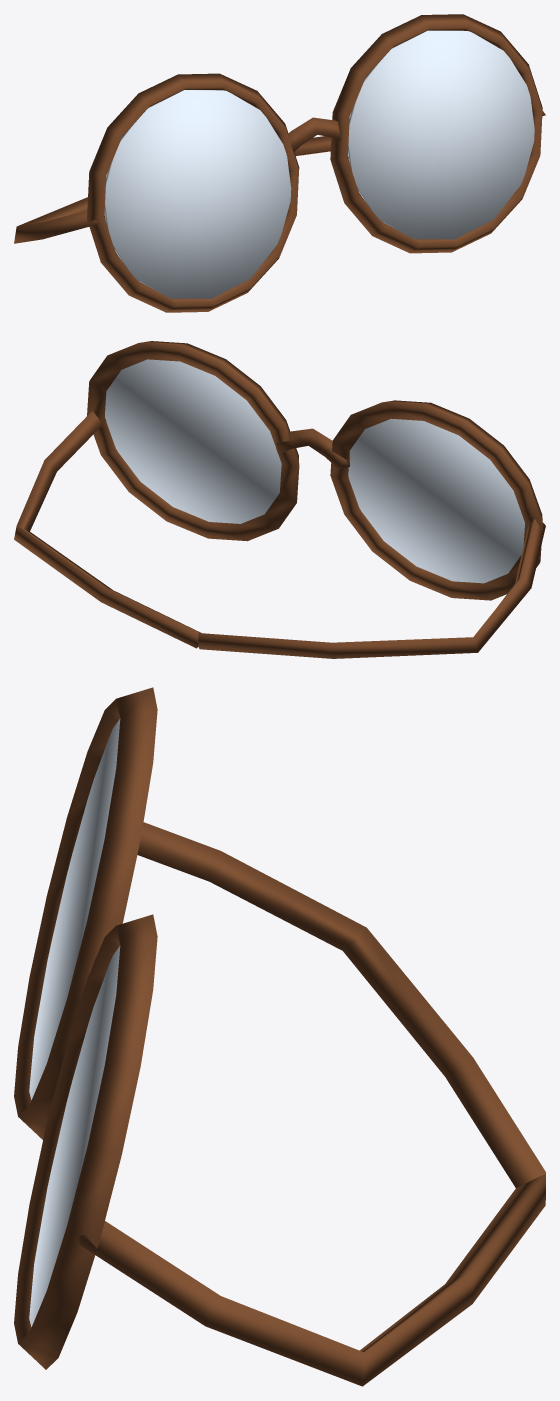
Rendered from reading_glasses.glb.
3 views of the same model, one above another, from view 1: azimuth 30°, elevation 25°; view 2: azimuth 150°, elevation 25°; view 3: azimuth 270°, elevation 25° (orthographic). The views are drawn at different scales.
Parts seen in each view (by area): view 1: reading_glasses; view 2: reading_glasses; view 3: reading_glasses.
Part boxes in pixels (x1,y1,x2,y2): reading_glasses: [14, 14, 545, 312]; reading_glasses: [14, 341, 545, 658]; reading_glasses: [14, 687, 545, 1386].
Bounding box in the file's own units: 0.1204 × 0.0507 × 0.0594.
